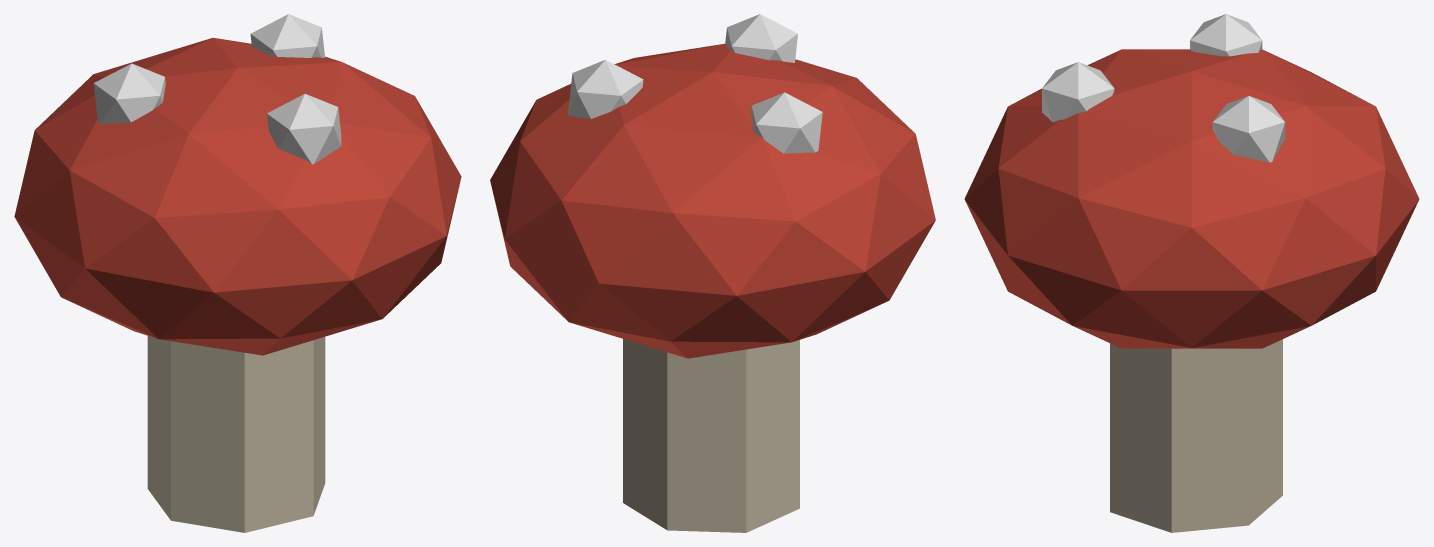
File: mushroom_red.glb
3 views of the same model, side by side, from view 1: azimuth 30°, elevation 25°; view 2: azimuth 150°, elevation 25°; view 3: azimuth 270°, elevation 25° (orthographic).
Visible parts, largest first — view 1: Cylinder; view 2: Cylinder; view 3: Cylinder.
Boxes of the visible parts, left/top/right/bottom form: Cylinder: left=14, top=14, right=461, bottom=532; Cylinder: left=490, top=14, right=935, bottom=532; Cylinder: left=964, top=14, right=1419, bottom=532.
Size of the model in its own units: 0.3043 by 0.34 by 0.32.
